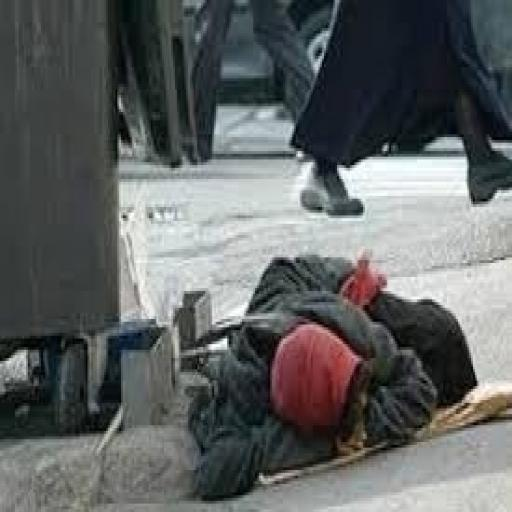sleeping: (186, 246, 480, 501), (289, 0, 510, 218)
